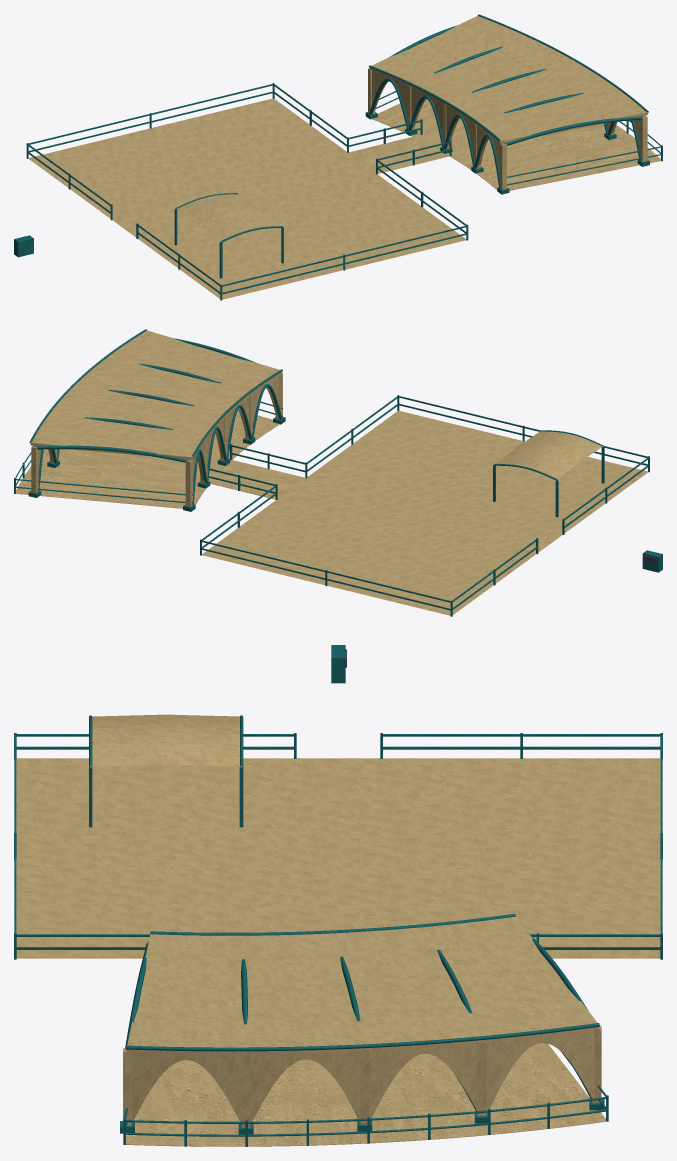
The model's file is commons_coarse.glb.
The picture shows the model from 3 angles, top to bottom: view 1: azimuth 30°, elevation 25°; view 2: azimuth 150°, elevation 25°; view 3: azimuth 270°, elevation 25°; orthographic projection. The views are drawn at different scales.
Parts seen in each view (by area): view 1: Commons coarse kit; view 2: Commons coarse kit; view 3: Commons coarse kit.
Part boxes in pixels (x1=…): Commons coarse kit: x1=14, y1=14, x2=662, y2=300; Commons coarse kit: x1=14, y1=329, x2=662, y2=616; Commons coarse kit: x1=14, y1=645, x2=662, y2=1146.
Bounding box in the file's own units: 52.31 × 4.57 × 30.12.
1 material, 1 textured.
